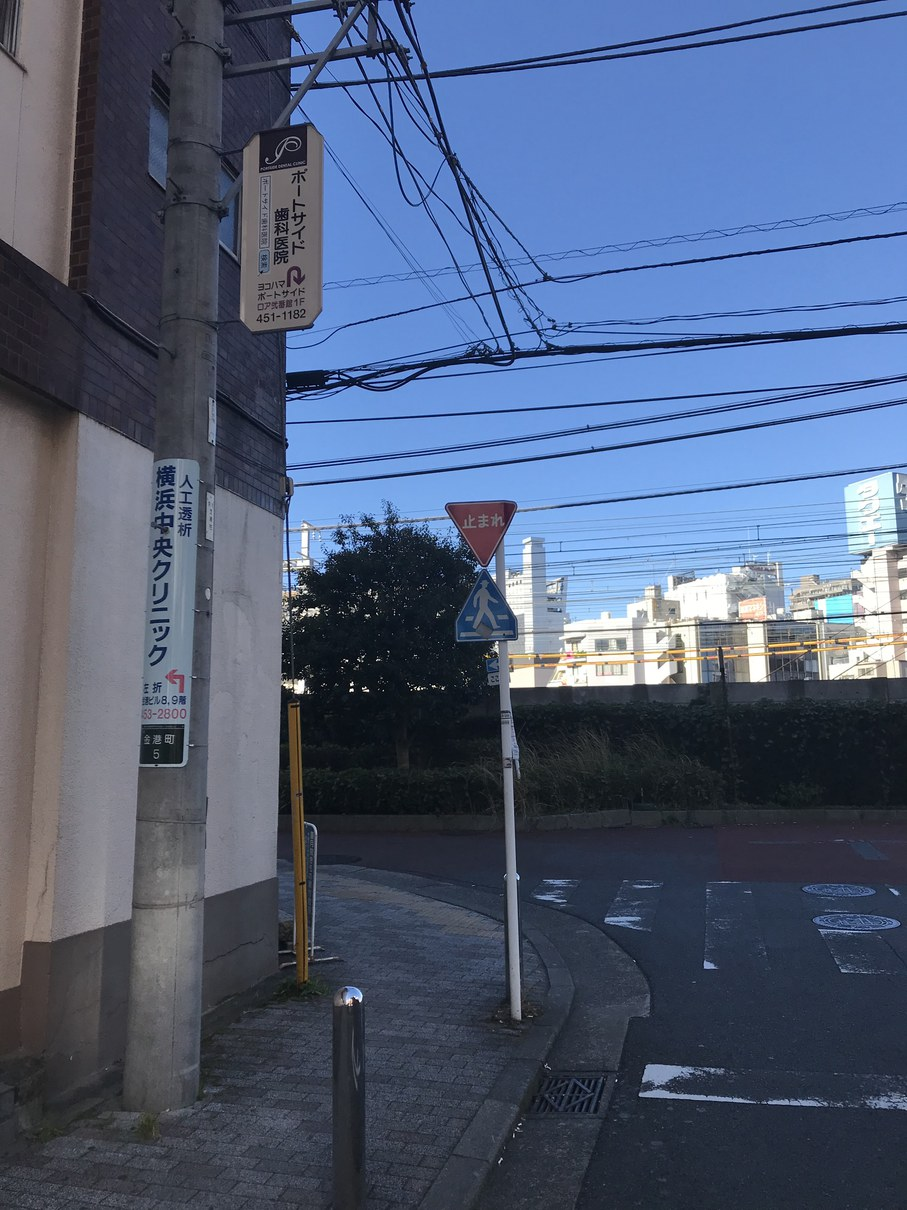stop_sign: (443, 499, 517, 569)
